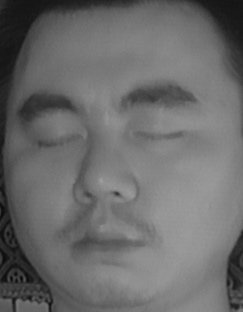blink: (138, 114, 184, 155), (35, 122, 80, 162)
mouth: (66, 209, 162, 266)
